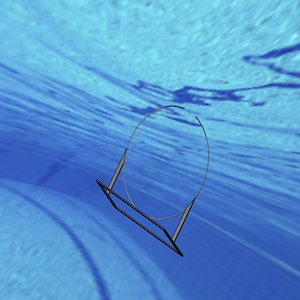circle: (94, 103, 212, 257)
